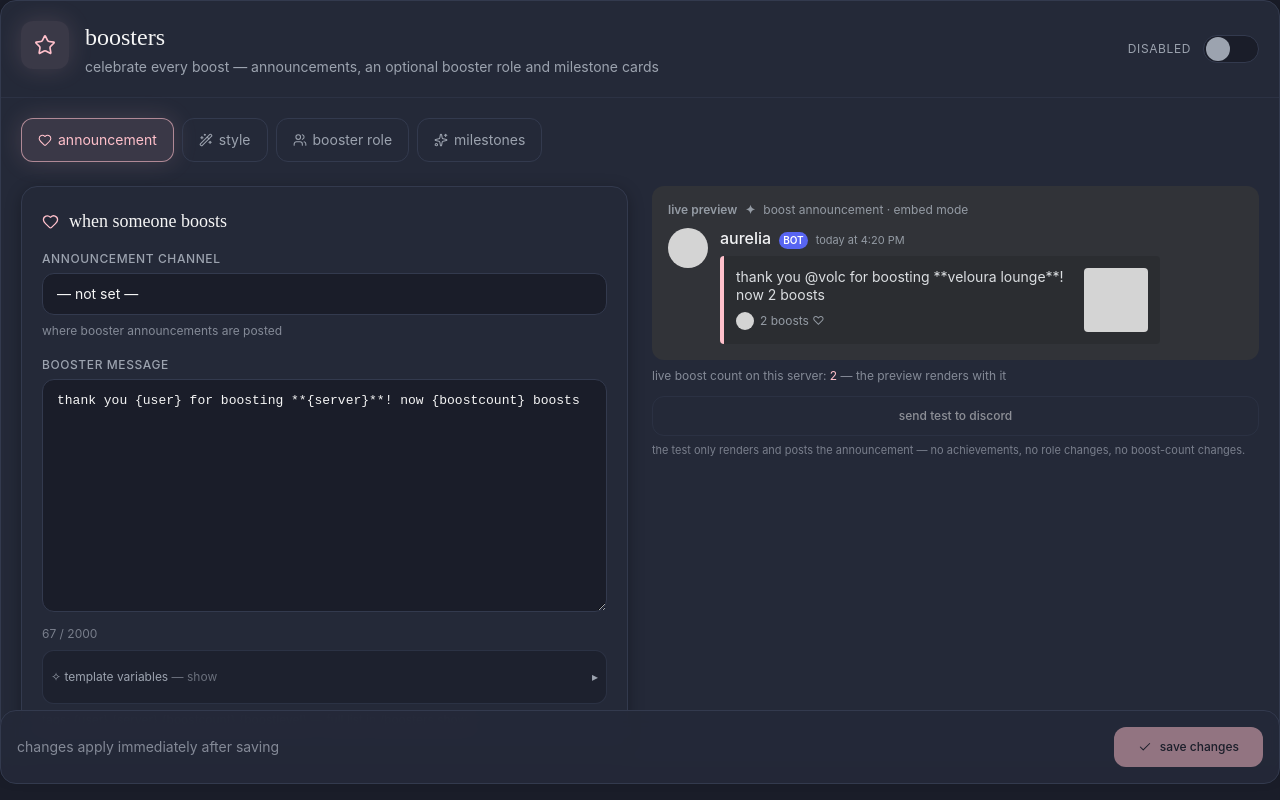
it: boosters save flow — state preservation (PHASE O.2) › backend failure surfaces a sanitized message — never raw Python internals
Expected: the heading "boosters" is shown, [85, 24, 165, 50]
Select "# boosting" in the dropdown labelled "announcement channel": (324, 294) [42, 273, 607, 315]
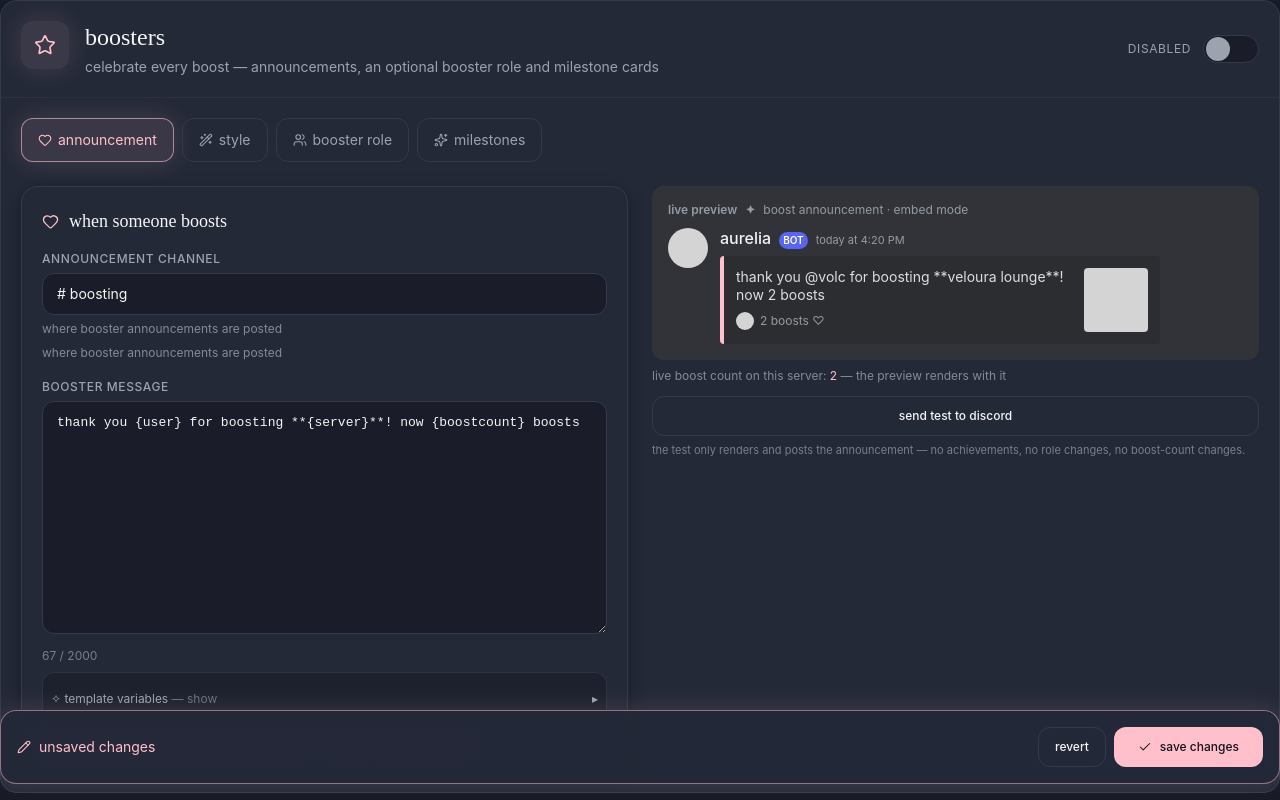
Click the button "save changes": (1188, 747) [1114, 727, 1263, 767]
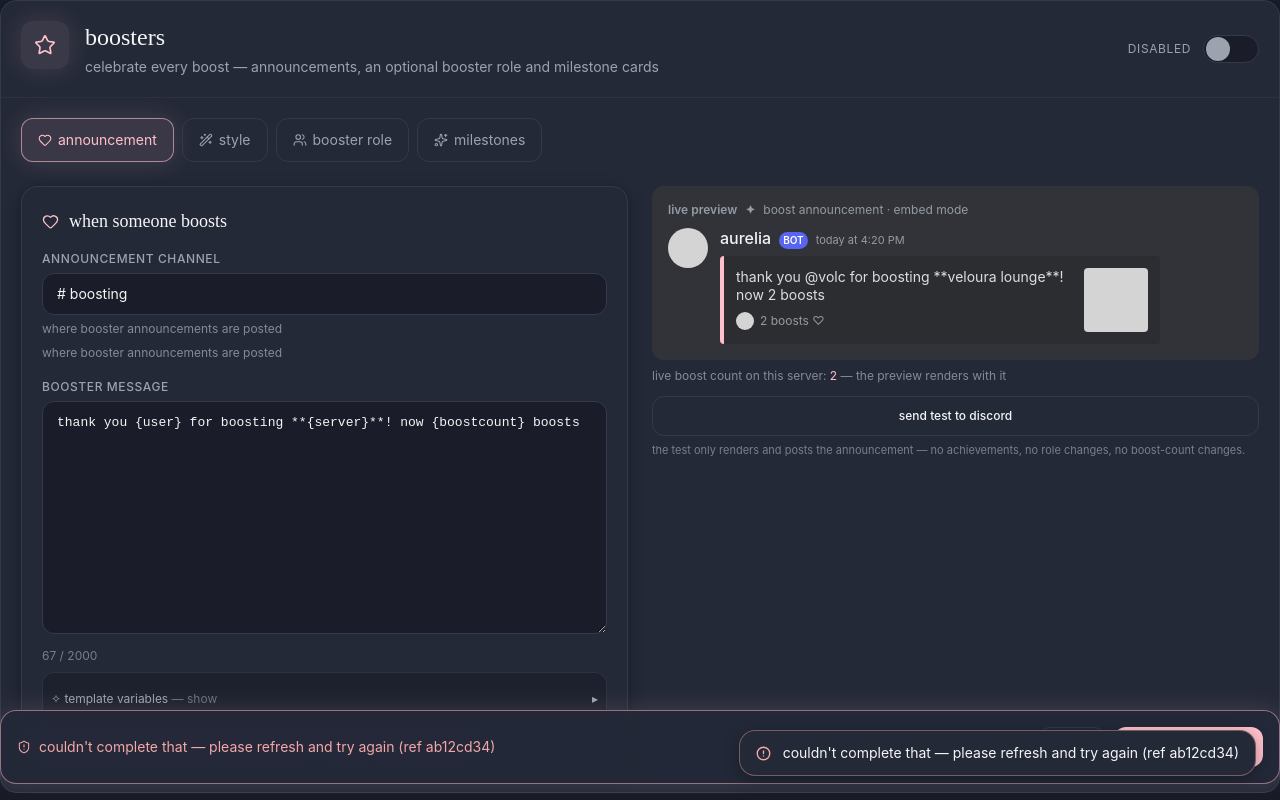
Result: the text "couldn't complete that" is shown at [39, 738, 495, 755]
